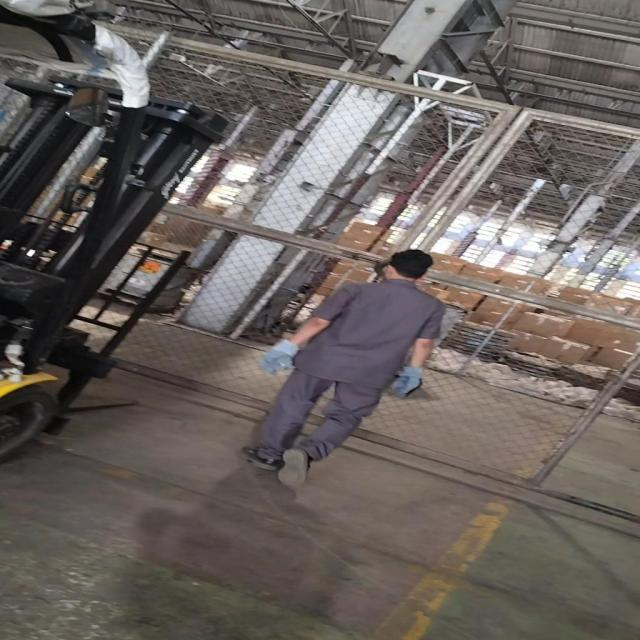Gloves-Detection: (259, 334, 294, 375), (388, 368, 428, 403)
